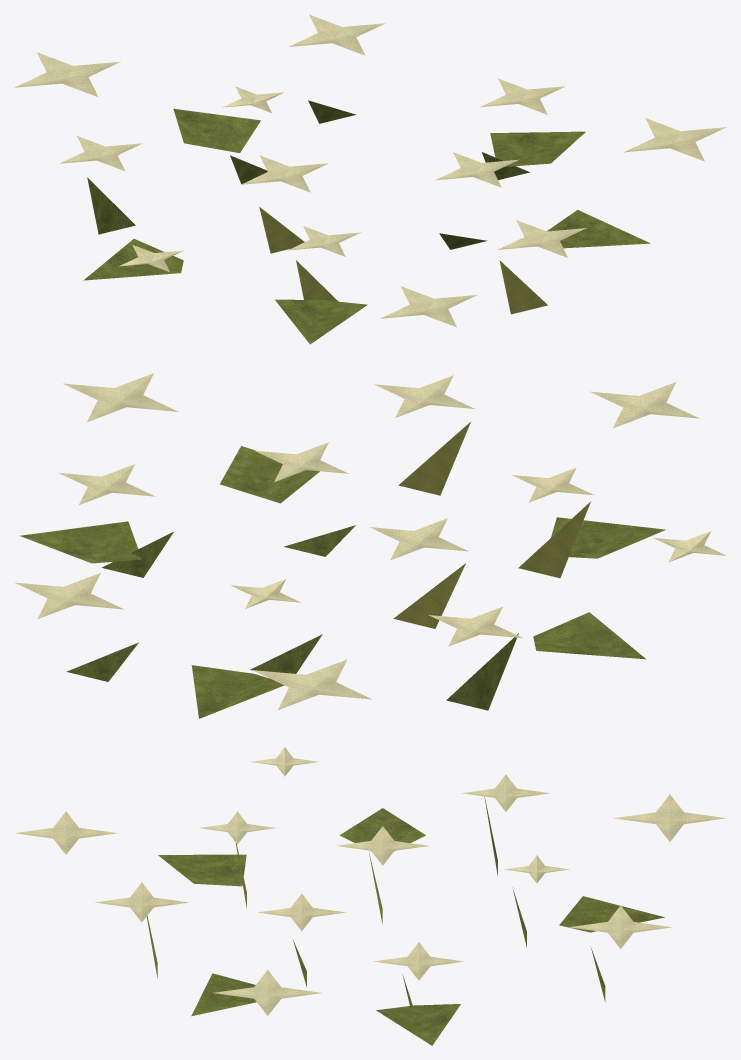
File: grass-1.fbx
The picture shows the model from 3 angles, top to bottom: view 1: azimuth 30°, elevation 25°; view 2: azimuth 150°, elevation 25°; view 3: azimuth 270°, elevation 25°; orthographic projection. The views are drawn at different scales.
Visible parts, largest first — view 1: grass-1__Geometry; view 2: grass-1__Geometry; view 3: grass-1__Geometry.
Part boxes in pixels (x1,y1,x2,y2): grass-1__Geometry: (15,14,726,344); grass-1__Geometry: (15,373,726,718); grass-1__Geometry: (14,747,725,1045).
Bounding box in the file's own units: 0.8644 × 0.105 × 0.9674.
